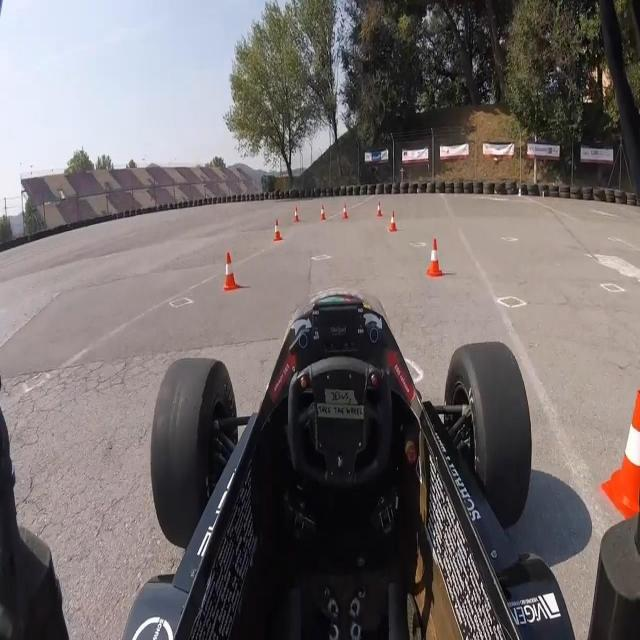orange_cone: (600, 376, 640, 522), (426, 236, 444, 279), (222, 249, 238, 291), (388, 209, 397, 234), (273, 220, 282, 242), (375, 200, 383, 218), (293, 205, 300, 223), (319, 203, 326, 220), (342, 202, 348, 219)
